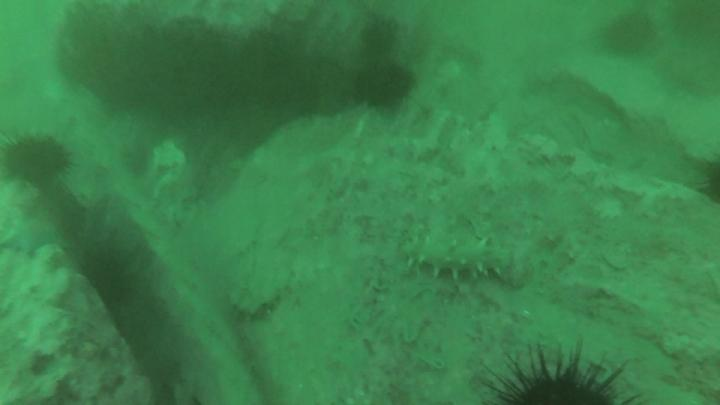echinus: (7, 138, 68, 188), (362, 62, 413, 106), (83, 256, 126, 304), (608, 13, 654, 56), (358, 21, 394, 56)
holothurian: (404, 240, 513, 281), (231, 293, 280, 324)
